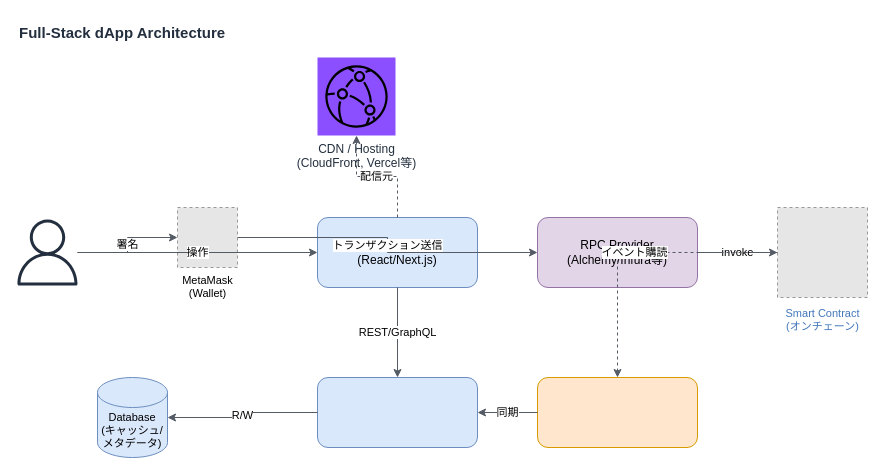
Some shapes in this 885 by 475 pixel diagram are drawn without their labels. Grey dashed boxes stand in for pictures. The box of each missing label's shape, as (x1, y1, x2, y2) in pixels:
Backend API (オフチェーン処理): (316, 376, 478, 448)
Indexer (The Graph等): (536, 376, 698, 448)
User: (17, 217, 77, 287)
